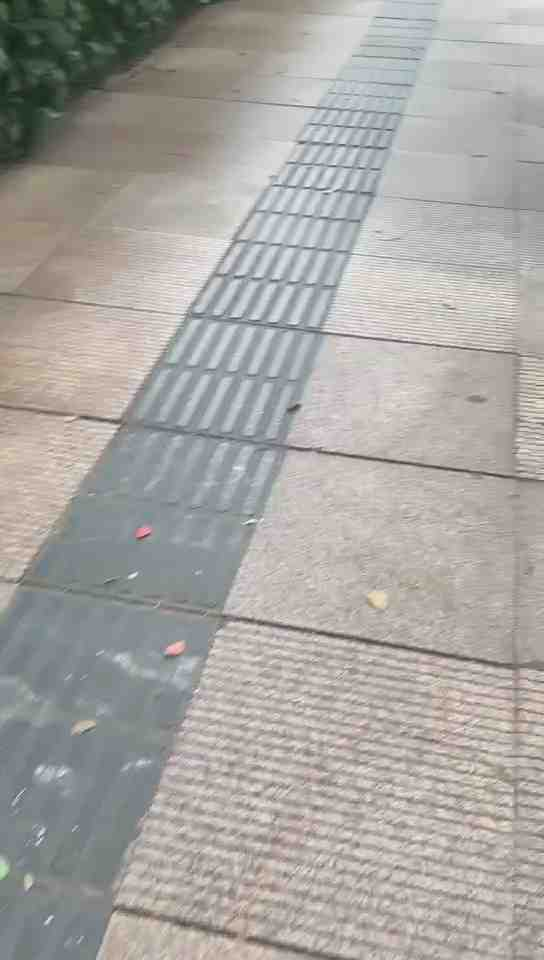leaf: (361, 582, 392, 612), (159, 634, 193, 660), (65, 716, 100, 740), (130, 518, 156, 544)
